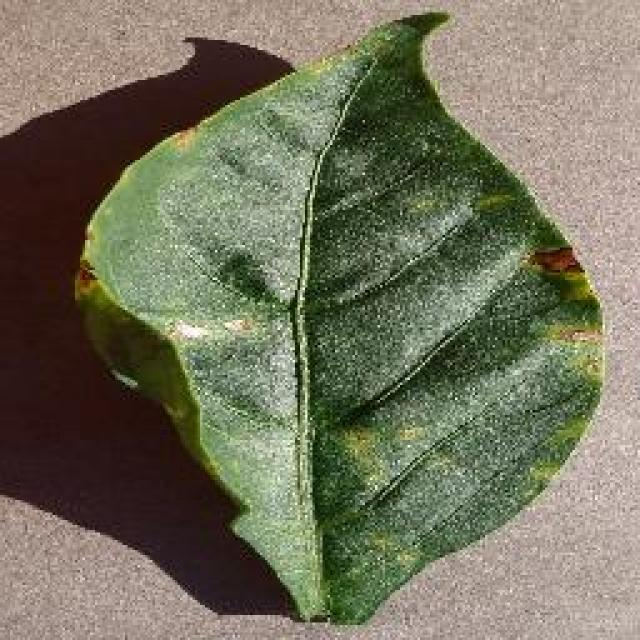Chilli_Bacterial_Spot: (70, 7, 610, 625), (325, 177, 603, 515), (333, 420, 395, 500), (210, 242, 280, 310), (525, 240, 585, 280), (542, 320, 602, 348), (467, 188, 515, 218), (400, 188, 442, 222), (70, 258, 100, 300), (390, 418, 428, 448)
